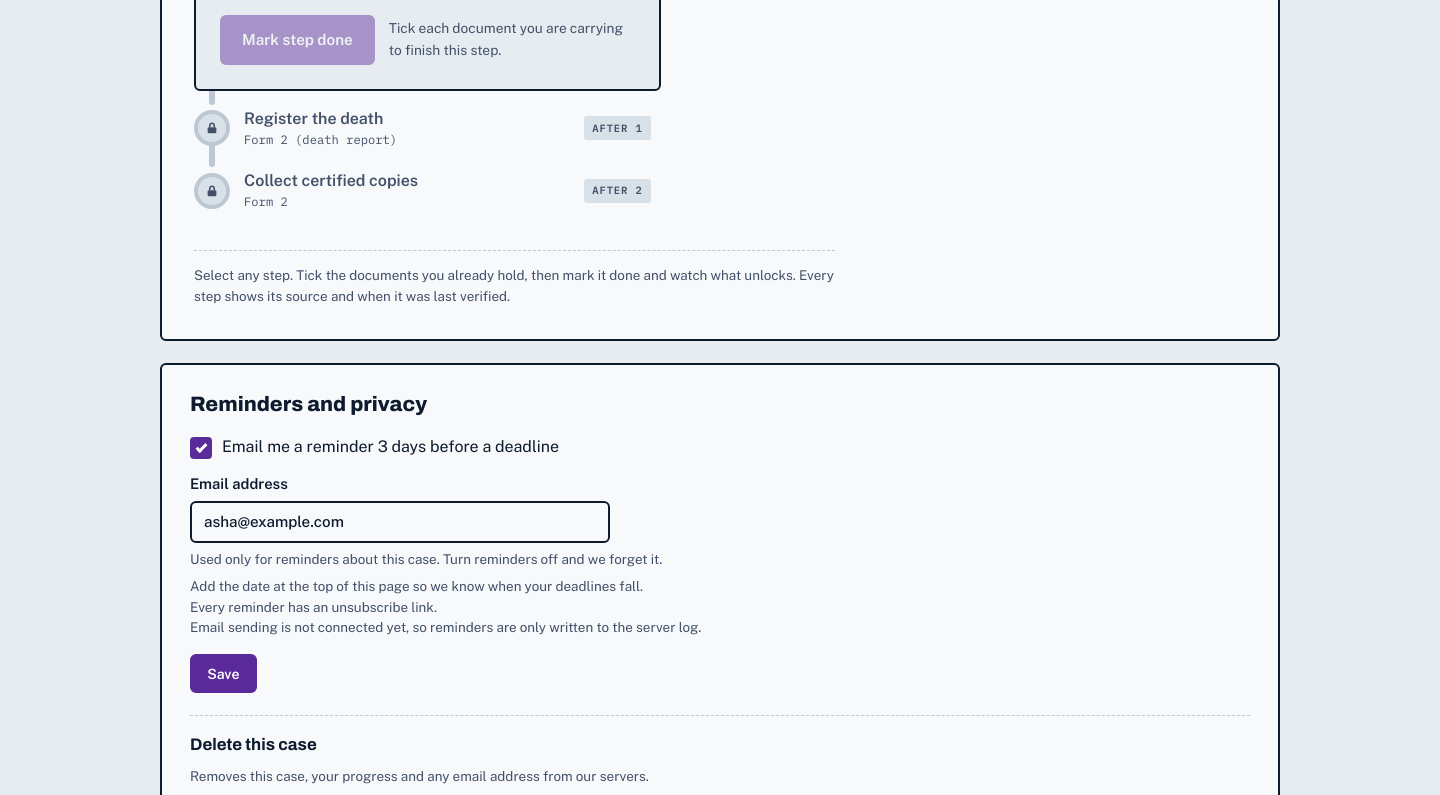
Test case: CasePage: the full route view › opts out by sending no email
This screenshot has width=1440, height=795.
(page scrolled)
Click the checkbox labelled "Email me a reminder 3 days before a deadline" at [201, 448], box [190, 437, 212, 459]
(page scrolled)
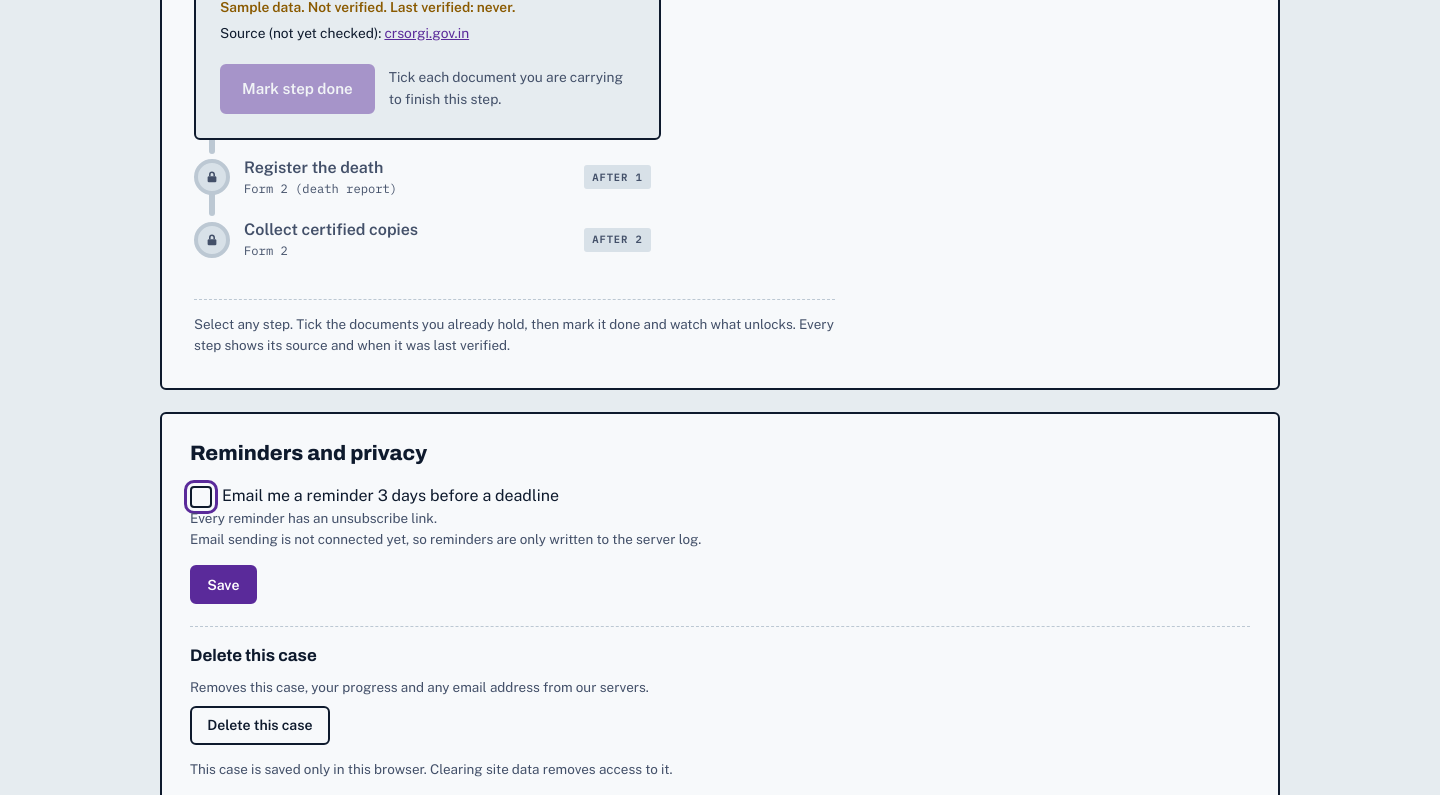
Click the button "Save" at [223, 585], box [190, 565, 257, 604]
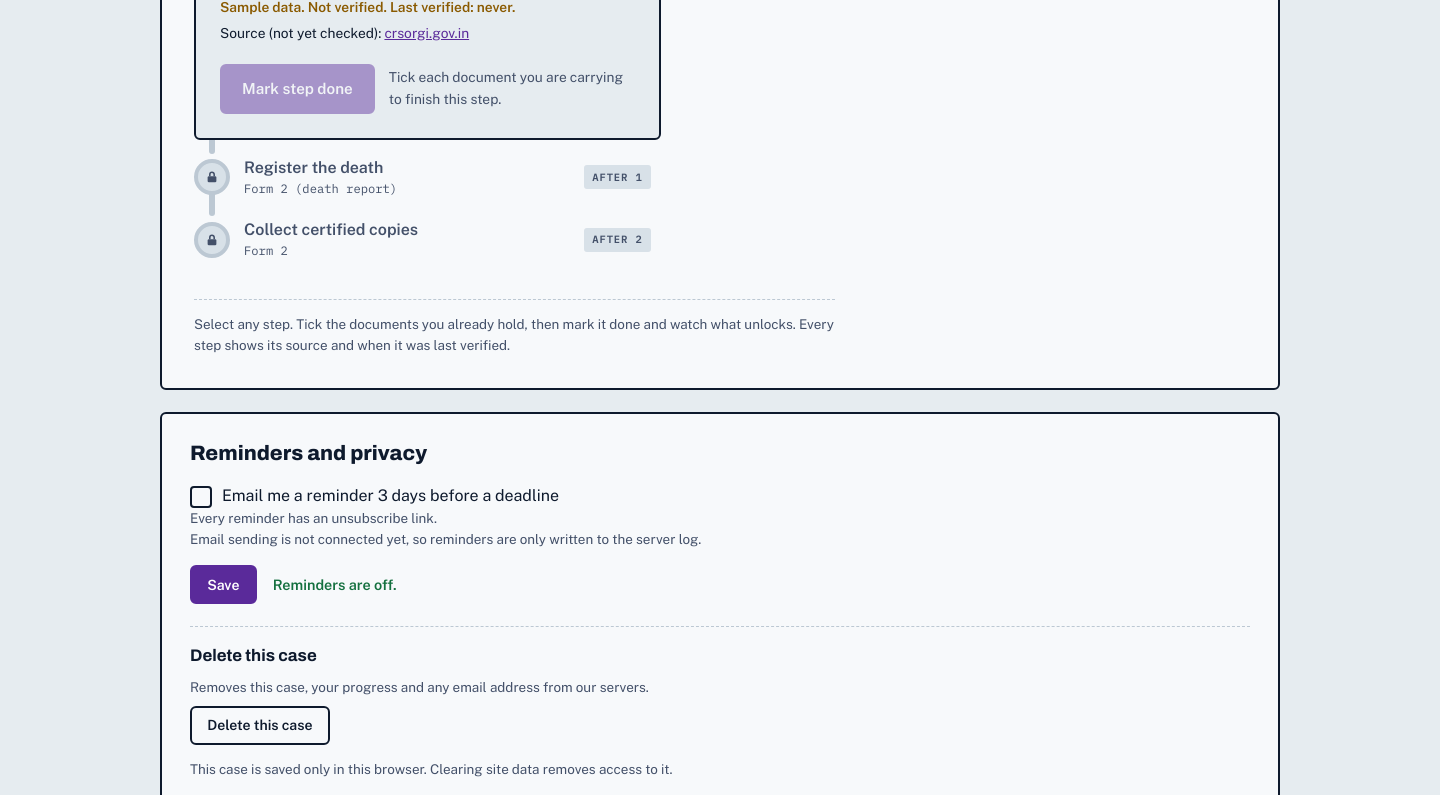
Check: the text "Reminders are off." is shown, box [273, 574, 396, 596]
